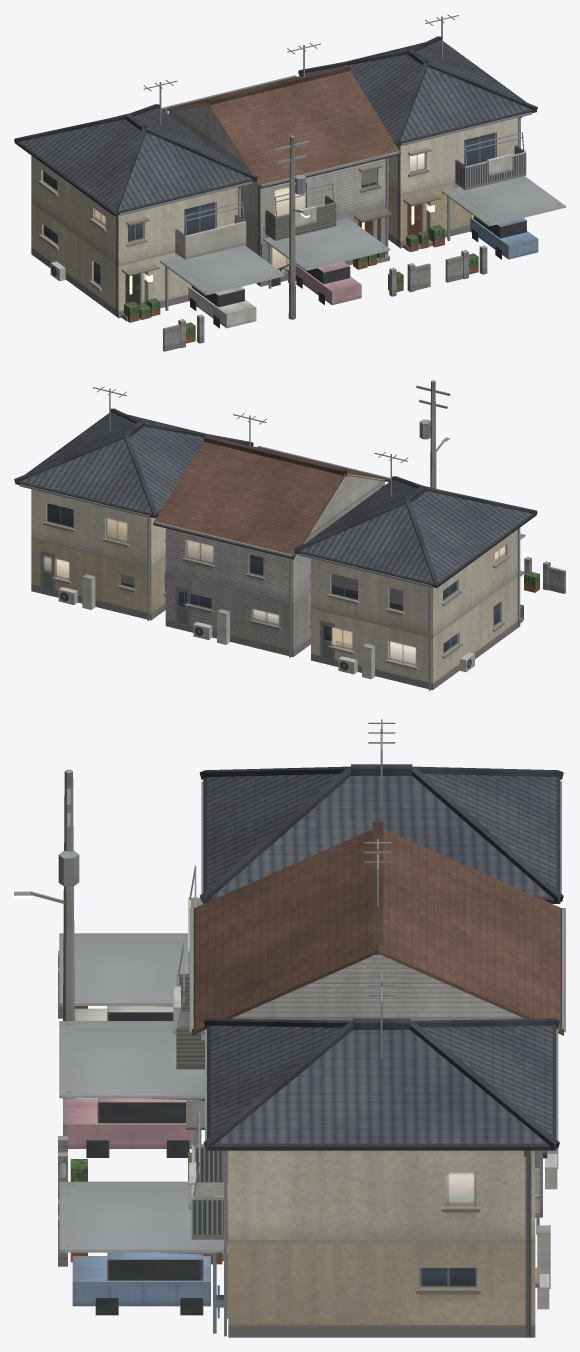
File: tokyo_house_a.glb
3 views of the same model, one above another, from view 1: azimuth 30°, elevation 25°; view 2: azimuth 150°, elevation 25°; view 3: azimuth 270°, elevation 25° (orthographic). The views are drawn at different scales.
Visible parts, largest first — view 1: tokyo_house_a; view 2: tokyo_house_a; view 3: tokyo_house_a.
Boxes of the visible parts, x1=… form: tokyo_house_a: x1=14, y1=14, x2=565, y2=351; tokyo_house_a: x1=14, y1=380, x2=565, y2=690; tokyo_house_a: x1=14, y1=719, x2=565, y2=1337.
Size of the model in its own units: 23.09 by 9.63 by 14.38.
Materials: 1 (1 with a texture image).
